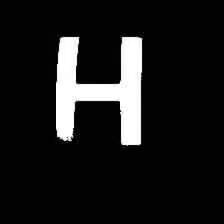LTR_H: (42, 23, 152, 160)
